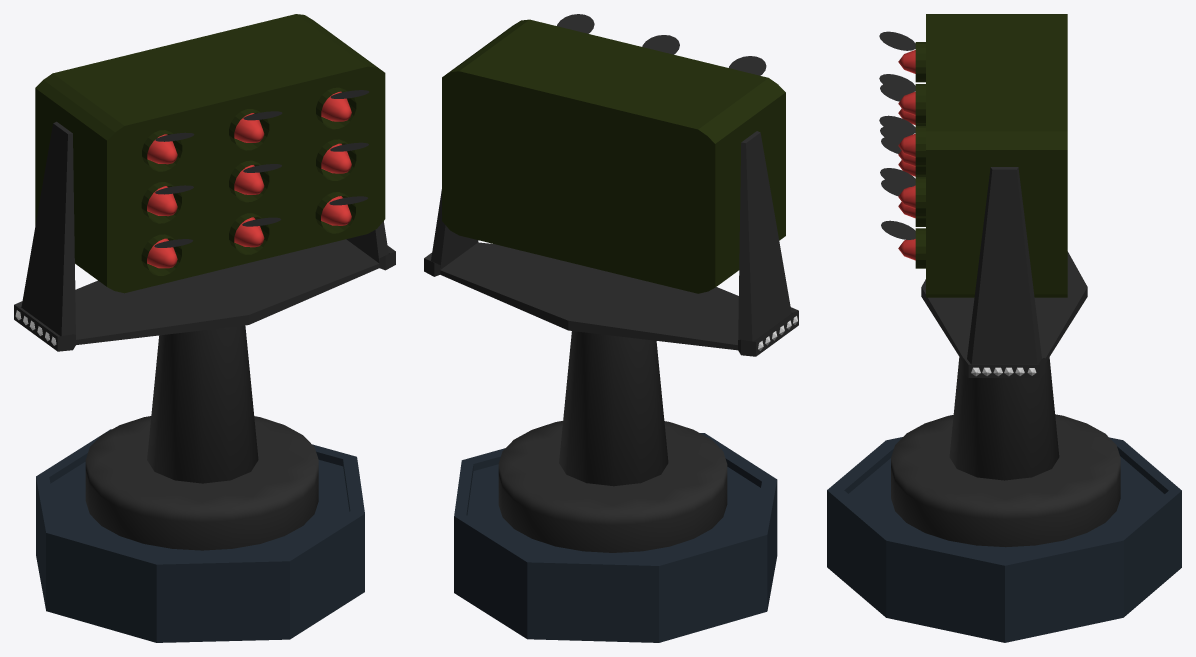
Rendered from missleturret.fbx.
The picture shows the model from 3 angles, left to right: view 1: azimuth 30°, elevation 25°; view 2: azimuth 150°, elevation 25°; view 3: azimuth 270°, elevation 25°; orthographic projection.
Visible parts, largest first — view 1: Cube.001, base, Cube, Cylinder, Cylinder.001, Sphere.003, Sphere.002, Sphere, Sphere.005, Sphere.004, Sphere.001, Sphere.008 (+2 smaller); view 2: Cube.001, base, Cube, Cylinder, Cylinder.001, Circle.002, Circle, Circle.001; view 3: base, Cube.001, Cylinder, Cube, Cylinder.001.
Part boxes in pixels (box(x1,y1,x2,y2)): Cube.001: box(35, 14, 385, 293); base: box(36, 429, 364, 642); Cube: box(14, 121, 395, 351); Cylinder: box(85, 416, 318, 550); Cylinder.001: box(147, 325, 258, 483); Sphere.003: box(321, 143, 351, 173); Sphere.002: box(321, 91, 351, 121); Sphere: box(147, 134, 177, 164); Sphere.005: box(147, 186, 177, 216); Sphere.004: box(234, 165, 264, 194); Sphere.001: box(234, 113, 264, 142); Sphere.008: box(321, 196, 351, 225); Cube.001: box(442, 19, 785, 293); base: box(454, 433, 777, 642); Cube: box(424, 131, 798, 356); Cylinder: box(498, 421, 727, 552); Cylinder.001: box(559, 331, 668, 486); Circle.002: box(557, 14, 594, 33); Circle: box(729, 56, 766, 75); Circle.001: box(642, 35, 679, 54); base: box(827, 437, 1181, 642); Cube.001: box(915, 14, 1067, 297); Cylinder: box(891, 414, 1120, 547); Cube: box(921, 167, 1087, 377); Cylinder.001: box(949, 357, 1059, 480).
Bounding box in the file's own units: 334 × 463 × 299.
